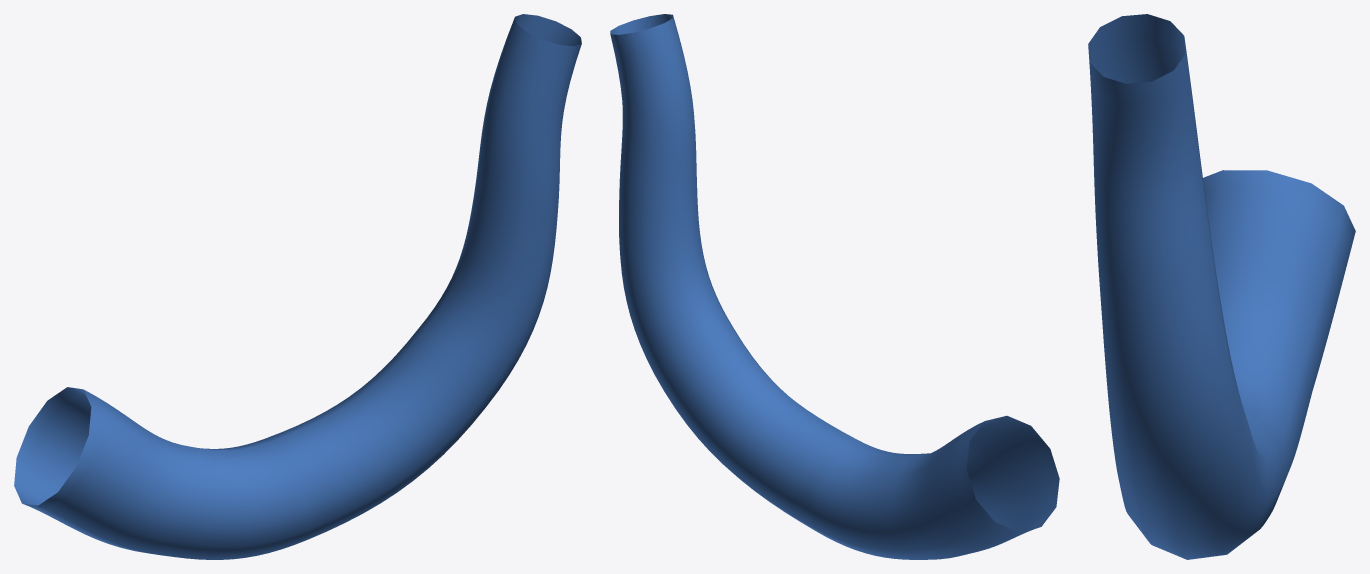
The picture shows the model from 3 angles, left to right: view 1: azimuth 30°, elevation 25°; view 2: azimuth 150°, elevation 25°; view 3: azimuth 270°, elevation 25°; orthographic projection. The views are drawn at different scales.
Parts seen in each view (by area): view 1: 左肾静脉; view 2: 左肾静脉; view 3: 左肾静脉.
Part boxes in pixels (left/top/right/bottom): 左肾静脉: left=14, top=14, right=581, bottom=559; 左肾静脉: left=610, top=14, right=1059, bottom=559; 左肾静脉: left=1088, top=14, right=1355, bottom=559.
Bounding box in the file's own units: 0.0596 × 0.0547 × 0.0197.
